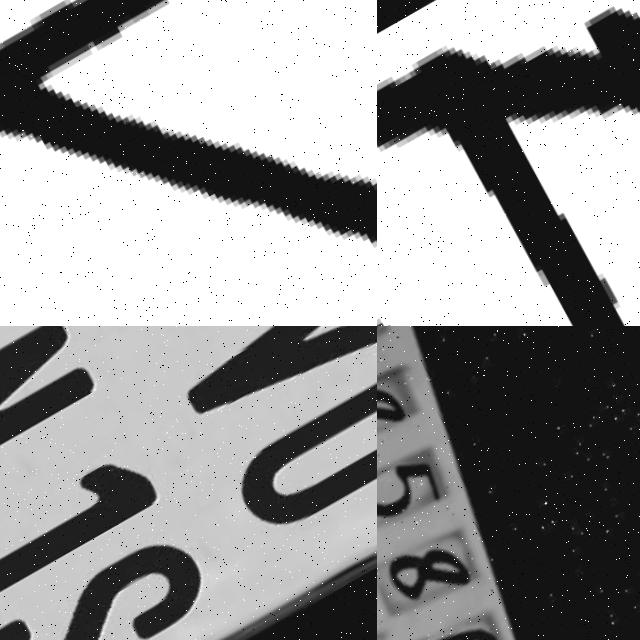0: (222, 336, 377, 546), (397, 592, 525, 640)
1: (0, 446, 167, 629)
5: (377, 428, 463, 547)
8: (377, 512, 495, 627), (377, 350, 430, 459)
E: (377, 7, 640, 326)
N: (0, 326, 103, 513)
S: (0, 526, 227, 640)
V: (0, 0, 377, 326), (161, 326, 377, 450)
